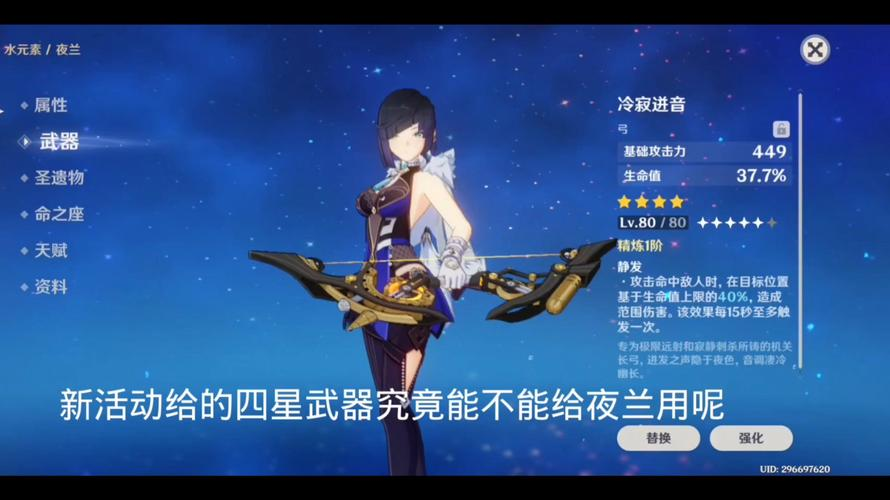夜兰: (354, 89, 475, 474)
